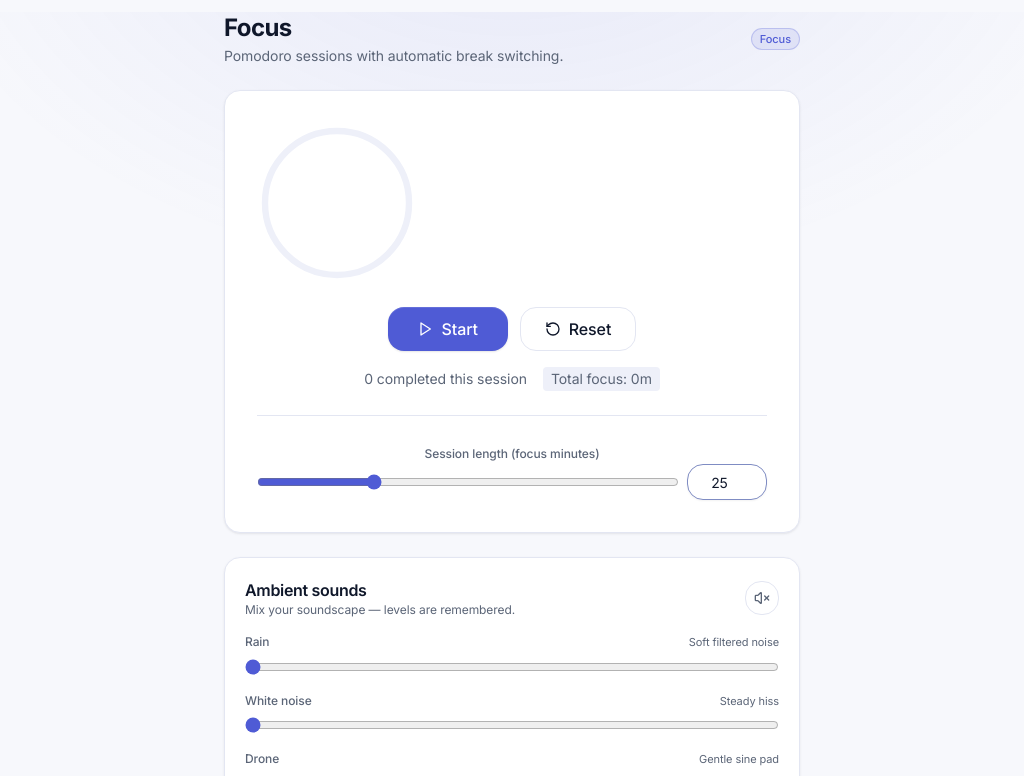
Test: the focus timer's completion › logs exactly one focus session for a completed run
Click the button "Start". click: (448, 329)
box: [388,307,508,351]
Wait 1500000 ms
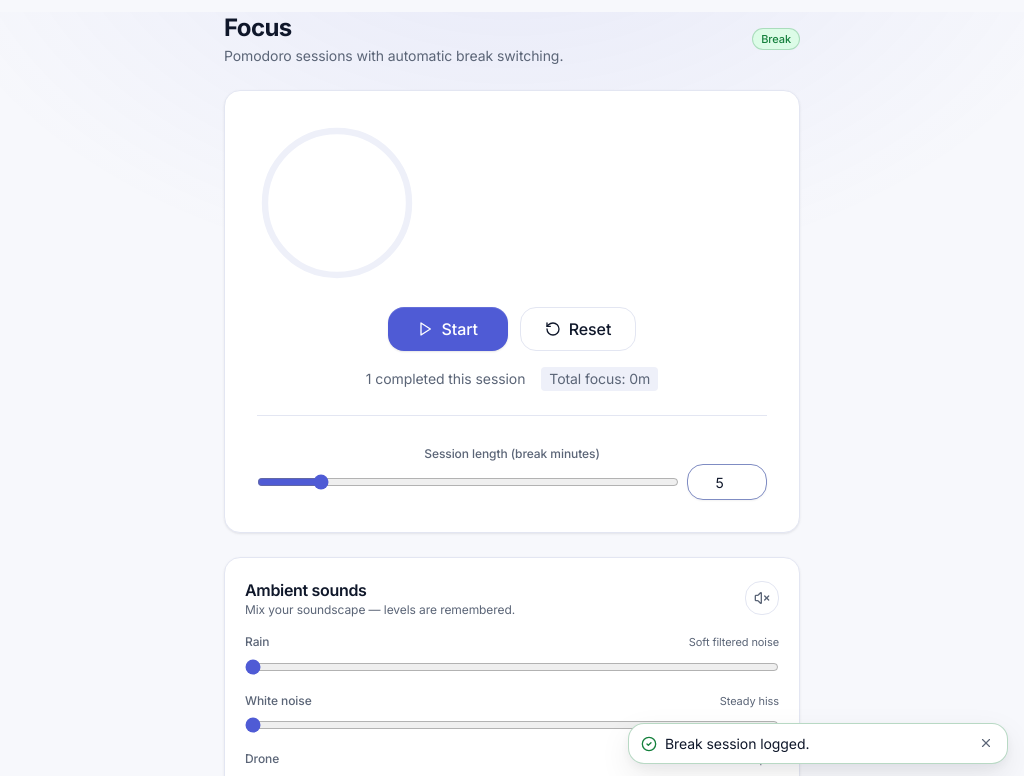
Result: the text "1 completed this session" is shown at [366,369,525,389]
